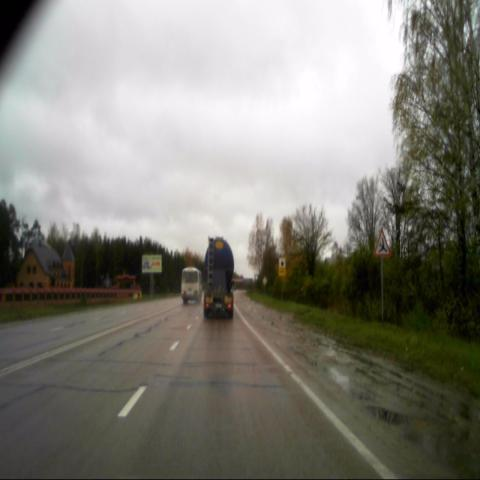1_30: (374, 228, 391, 257)
